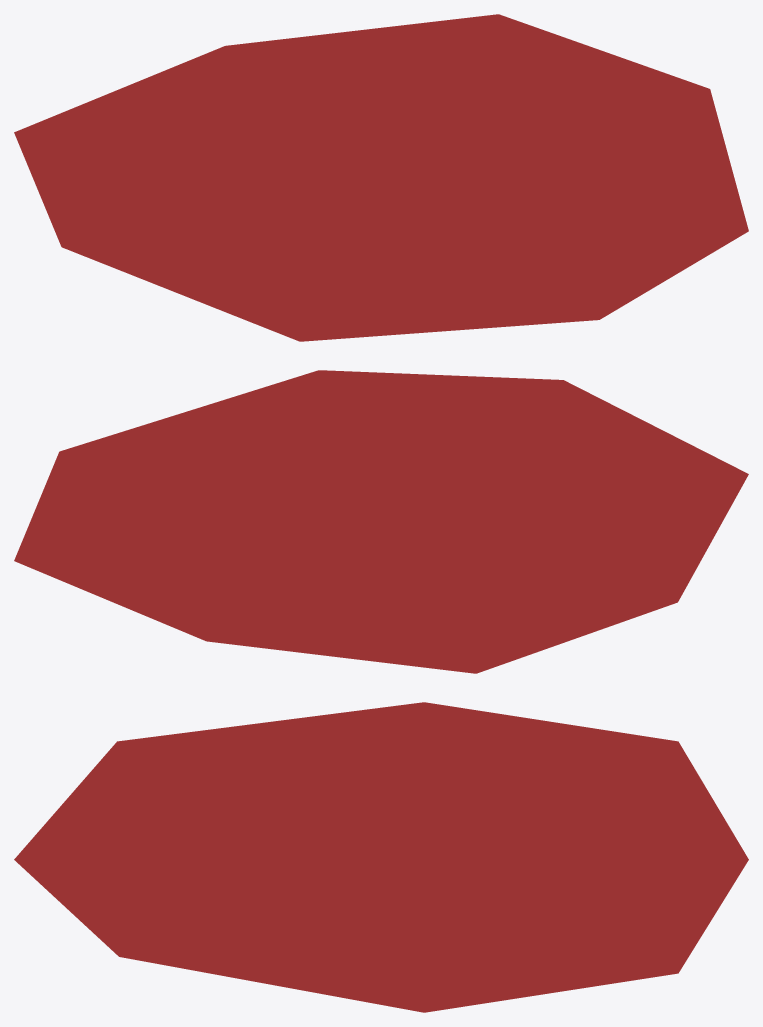
The model's file is Blood_Splatter.fbx.
The picture shows the model from 3 angles, top to bottom: view 1: azimuth 30°, elevation 25°; view 2: azimuth 150°, elevation 25°; view 3: azimuth 270°, elevation 25°; orthographic projection. The views are drawn at different scales.
Parts seen in each view (by area): view 1: Blood_Splatter; view 2: Blood_Splatter; view 3: Blood_Splatter.
Part boxes in pixels (x1,y1,x2,y2): Blood_Splatter: (14, 14, 748, 341); Blood_Splatter: (14, 370, 748, 673); Blood_Splatter: (14, 702, 748, 1012).
Size of the model in its own units: 2.81 by 0 by 2.81.
